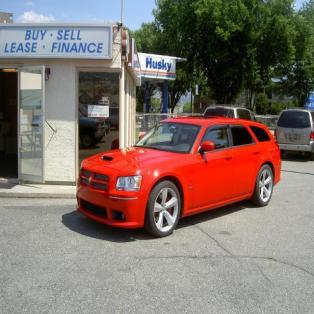Auto: (74, 115, 282, 238)
